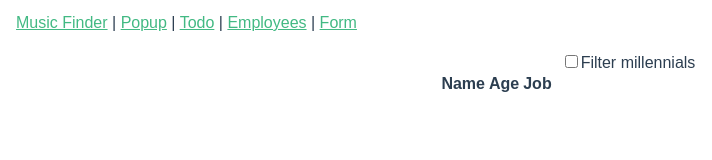
filters millenials
Check the checkbox with id "millennial-filter" at coordinates (572, 62), box [565,55,578,68]
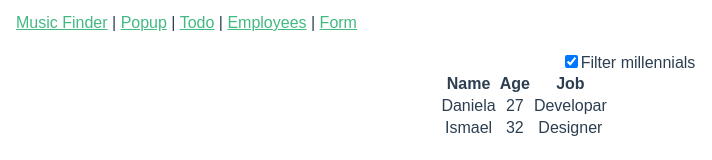
Check: the number of rows with class "employee" is 2, box [440,96,608,116]; [440,118,608,138]
